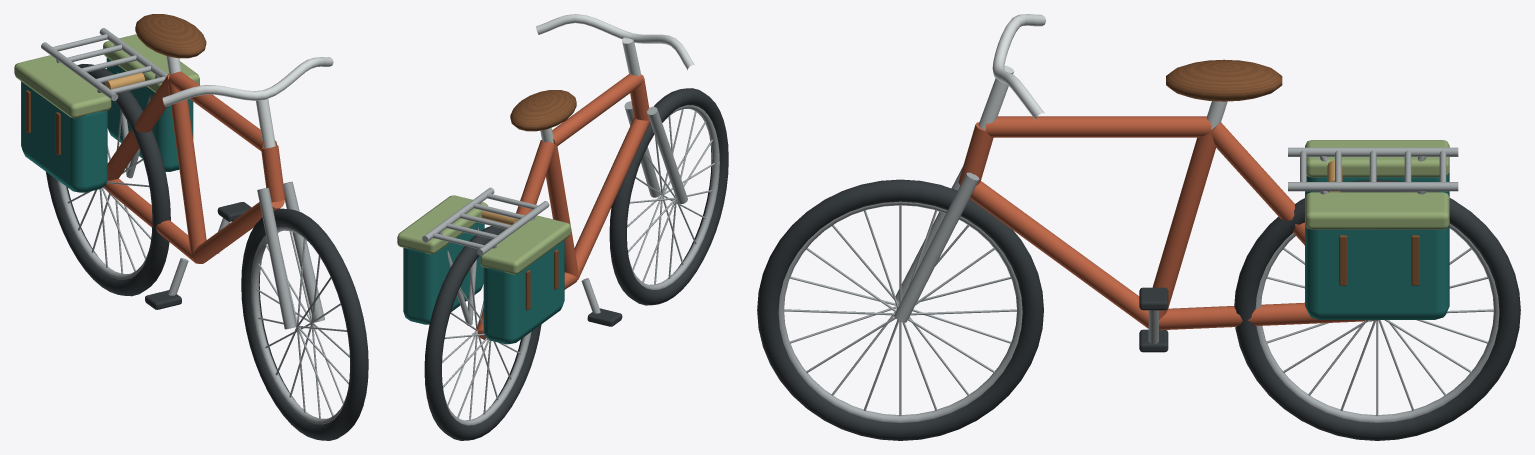
Rendered from veh_bike_touring-51e19cb11001.glb.
3 renders of one model, left to right at view 1: azimuth 30°, elevation 25°; view 2: azimuth 150°, elevation 25°; view 3: azimuth 270°, elevation 25°, orthographic. The views are drawn at different scales.
Parts seen in each view (by area): view 1: surface_rubber (×3), surface_steel (×3), surface_terracotta, surface_teal, surface_sage, surface_walnut, surface_chrome, surface_brass; view 2: surface_steel (×3), surface_rubber (×3), surface_teal, surface_terracotta, surface_sage, surface_walnut, surface_chrome; view 3: surface_rubber (×3), surface_steel (×3), surface_terracotta, surface_teal, surface_sage, surface_walnut, surface_chrome.
Part boxes in pixels (x1,y1,x2,y2): surface_rubber (×3): (46, 64, 368, 440); surface_steel (×3): (41, 28, 349, 424); surface_terracotta: (103, 71, 285, 263); surface_teal: (21, 57, 193, 192); surface_sage: (14, 34, 199, 118); surface_walnut: (25, 14, 206, 155); surface_chrome: (162, 56, 333, 148); surface_brass: (104, 72, 144, 89); surface_steel (×3): (422, 101, 719, 425); surface_rubber (×3): (424, 88, 728, 440); surface_teal: (403, 222, 564, 344); surface_terracotta: (476, 74, 649, 339); surface_sage: (397, 195, 570, 274); surface_walnut: (510, 90, 576, 310); surface_chrome: (536, 14, 694, 143); surface_rubber (×3): (757, 179, 1520, 440); surface_steel (×3): (778, 147, 1499, 422); surface_terracotta: (958, 116, 1377, 330); surface_teal: (1305, 172, 1449, 319); surface_sage: (1305, 140, 1449, 229); surface_walnut: (1166, 59, 1419, 285); surface_chrome: (978, 14, 1227, 129).
Bounding box in the file's own units: 0.5555 × 1.02 × 1.79.
8 materials, 1 textured.
